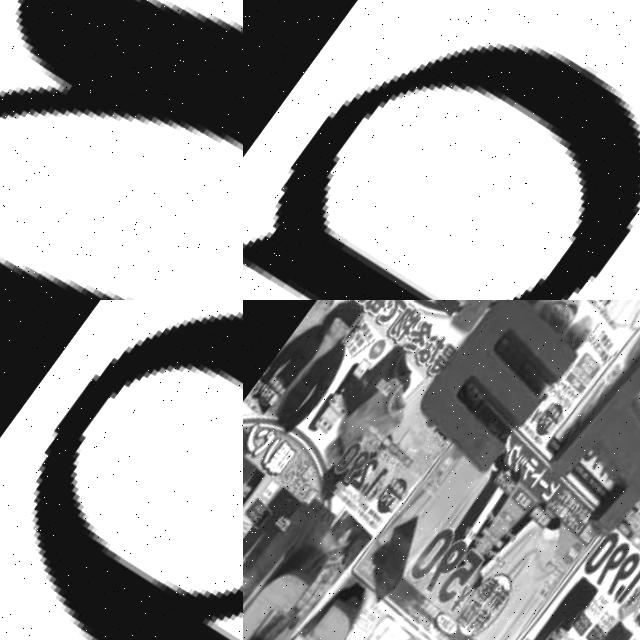6: (0, 300, 243, 640)
A: (0, 0, 243, 300)
B: (243, 35, 640, 300)
C: (243, 552, 377, 640)
I: (531, 352, 640, 557)
W: (407, 300, 596, 485)
